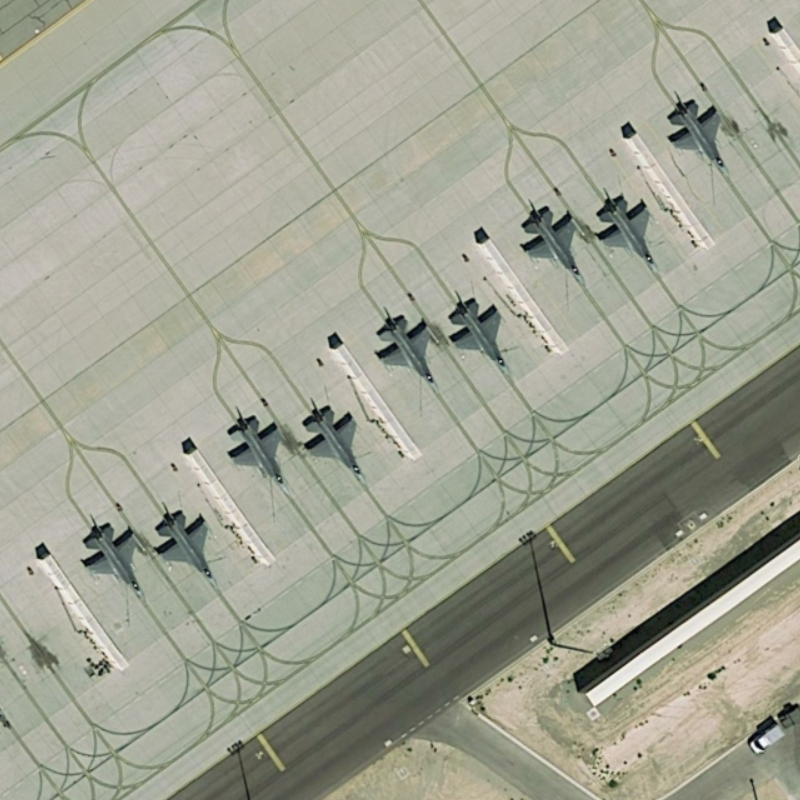A5: (222, 404, 308, 500), (370, 301, 448, 405), (293, 392, 377, 488), (442, 286, 521, 383), (146, 500, 229, 589), (589, 185, 667, 278), (515, 198, 590, 293), (72, 513, 148, 605), (664, 83, 734, 182)
